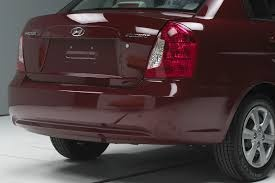Dent: (102, 68, 176, 103)
